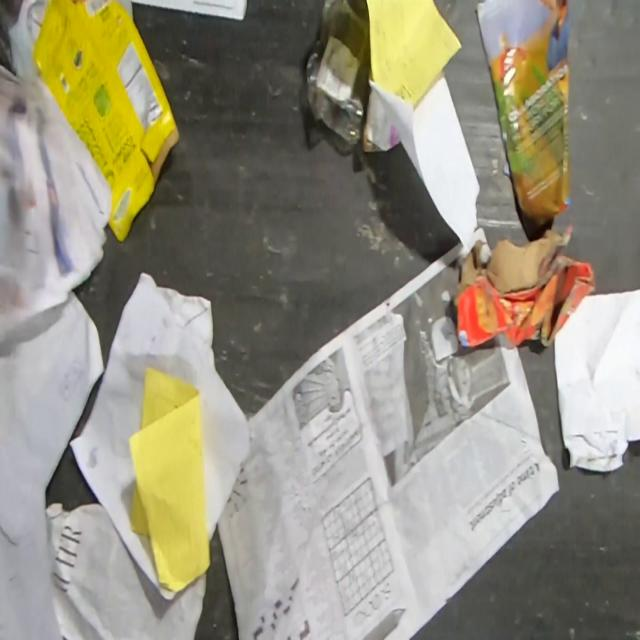cardboard: (30, 0, 181, 245), (451, 220, 598, 350), (361, 89, 402, 153)
rigid_plastic: (303, 0, 370, 147)
